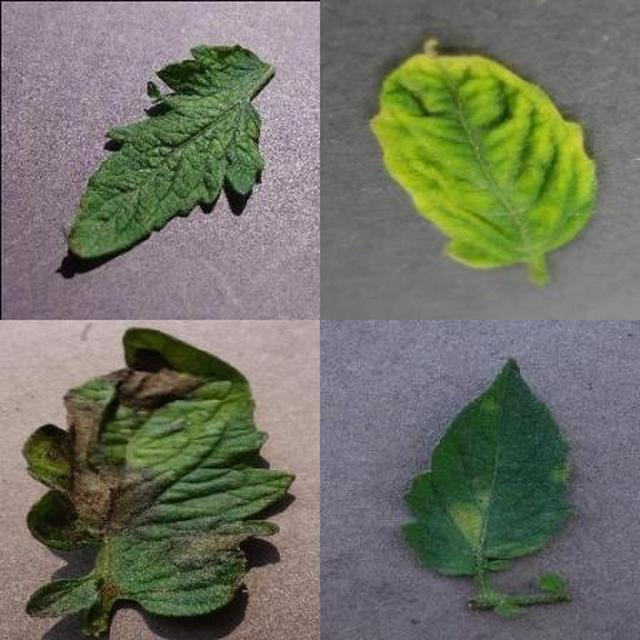Mosaic Virus Leaf: (229, 214, 640, 640)
